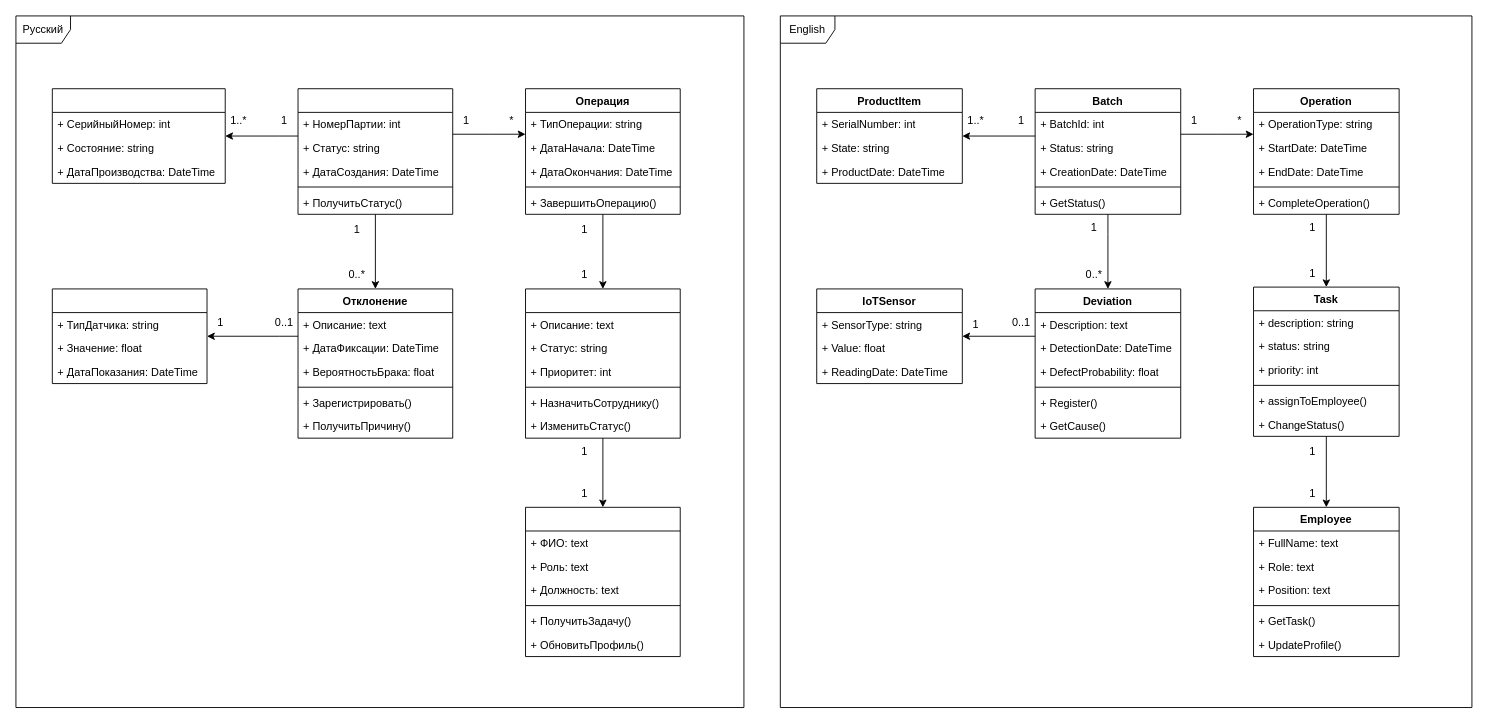
Image size: 1488x723. Some labels were removed from this diagram. The shapes that lost their labels are listed below. From the top down, each one's box as (x1, y1, x2, y2) in pixels, then its label:
(51, 88, 225, 183): Изделие
(297, 88, 453, 214): Партия
(51, 288, 207, 384): IoTДатчик
(525, 288, 680, 438): Задача
(525, 506, 680, 657): Сотрудник
